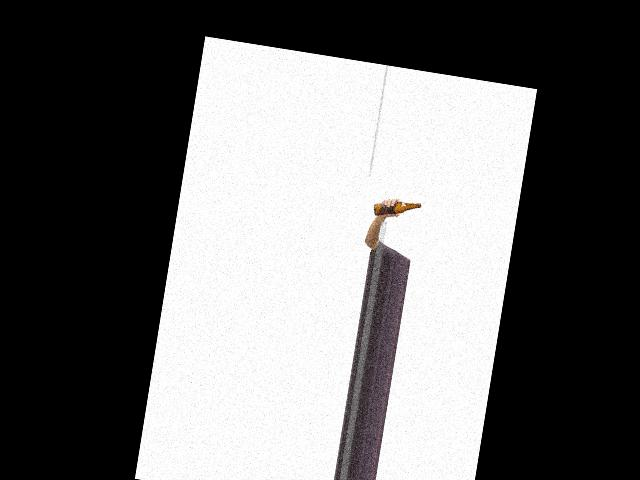beer: (372, 196, 421, 223)
